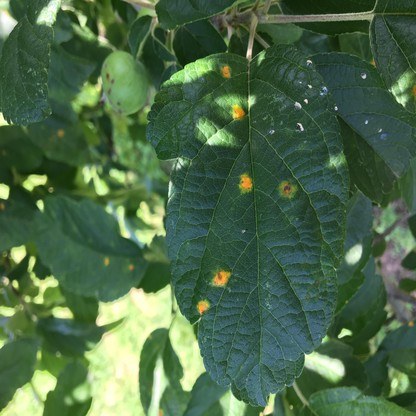rust: (279, 179, 298, 198), (209, 269, 230, 286), (239, 172, 252, 192), (230, 103, 244, 119), (196, 300, 212, 313), (221, 64, 231, 77), (103, 257, 110, 266), (159, 407, 164, 416), (57, 128, 63, 134), (128, 264, 134, 269)
